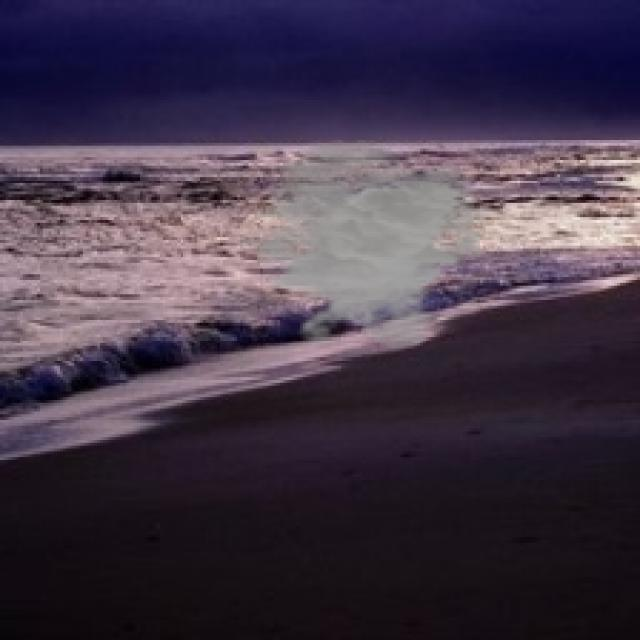smoke: (229, 137, 497, 352)
